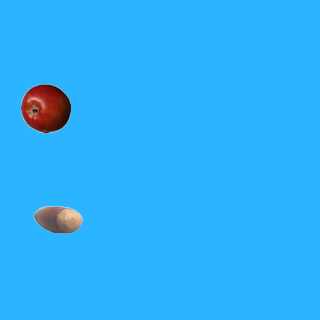Apple Braeburn: (20, 83, 70, 133)
Hazelnut: (32, 194, 82, 244)
